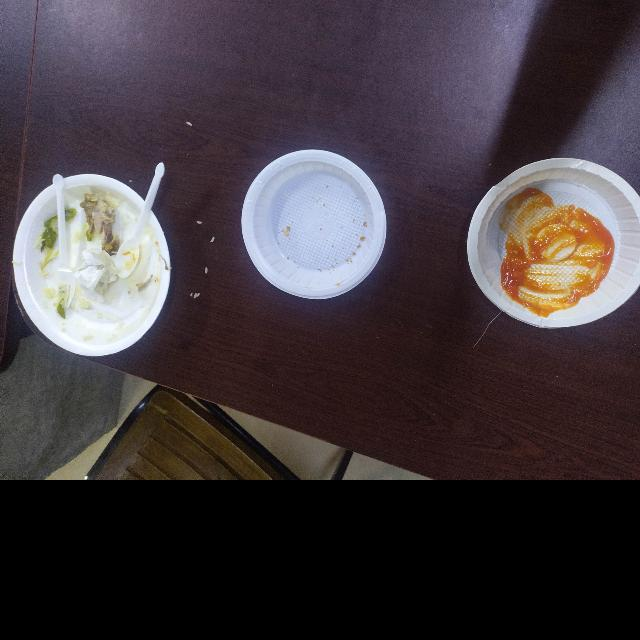kitchen paper: (75, 245, 119, 290)
